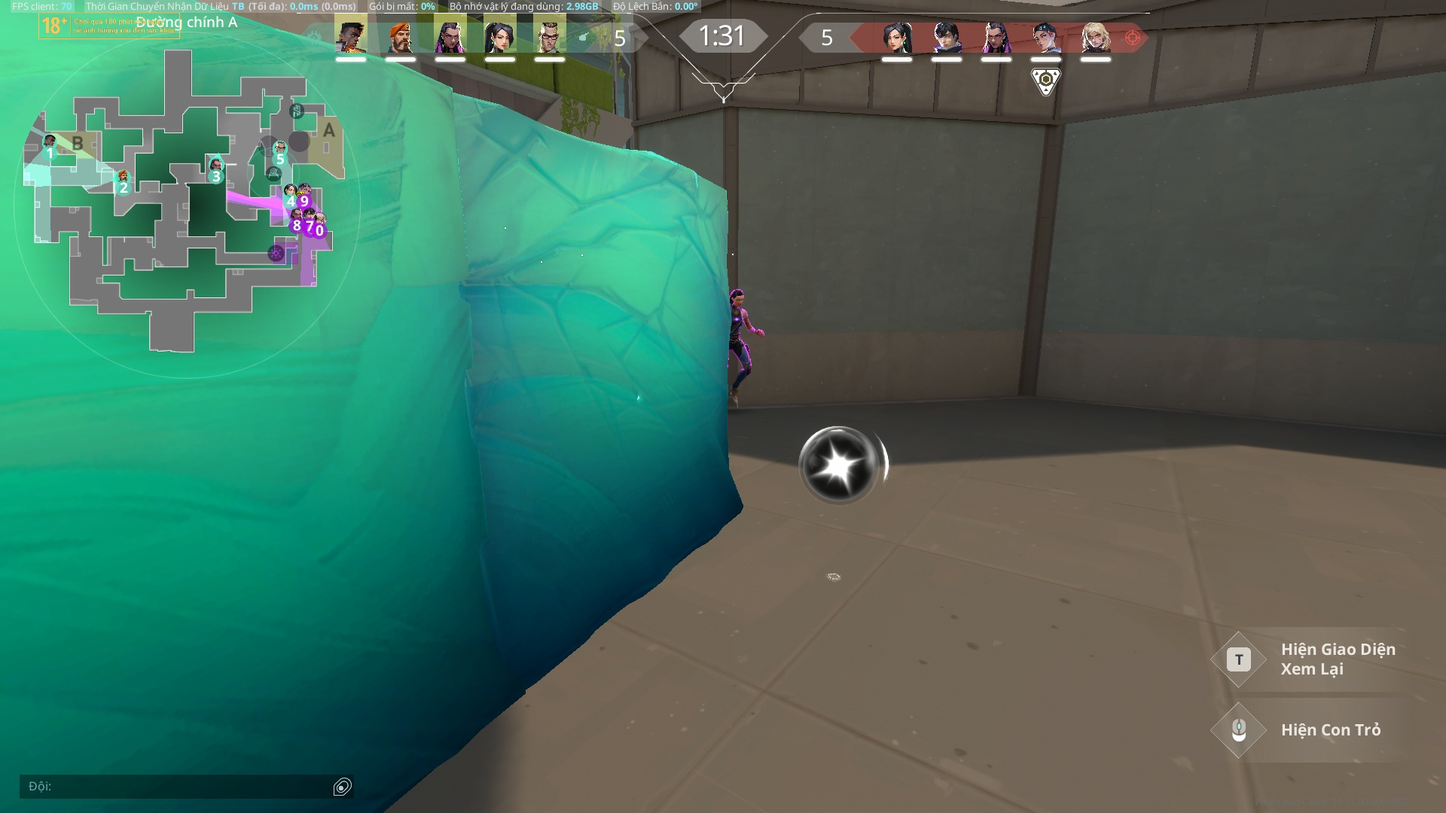body: (730, 302, 746, 338)
head: (731, 285, 743, 304)
